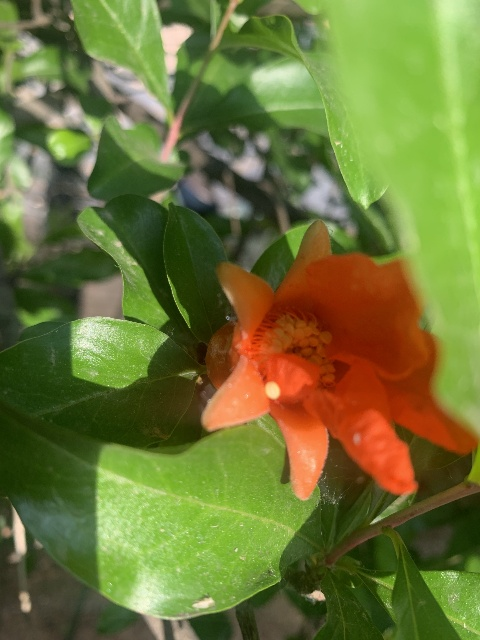flower: (201, 216, 475, 503)
